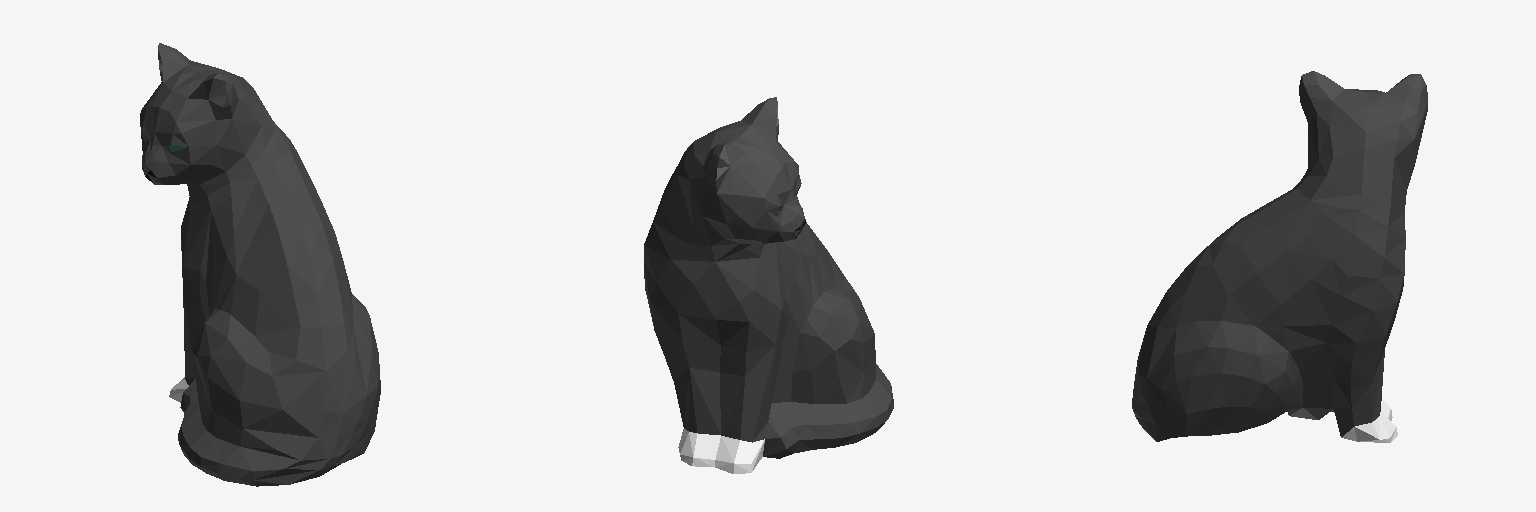
The model's file is cat.obj.
The picture shows the model from 3 angles: view 1: azimuth 30°, elevation 25°; view 2: azimuth 150°, elevation 25°; view 3: azimuth 270°, elevation 25°; orthographic projection.
Parts seen in each view (by area): view 1: Mesh1 Group1 Cat1 cat_temp1 Model; view 2: Mesh1 Group1 Cat1 cat_temp1 Model; view 3: Mesh1 Group1 Cat1 cat_temp1 Model.
Part boxes in pixels (left/top/right/bottom): Mesh1 Group1 Cat1 cat_temp1 Model: left=140, top=43, right=380, bottom=486; Mesh1 Group1 Cat1 cat_temp1 Model: left=644, top=97, right=893, bottom=473; Mesh1 Group1 Cat1 cat_temp1 Model: left=1132, top=71, right=1427, bottom=442.
Bounding box in the file's own units: 7.99 × 15.12 × 11.6.